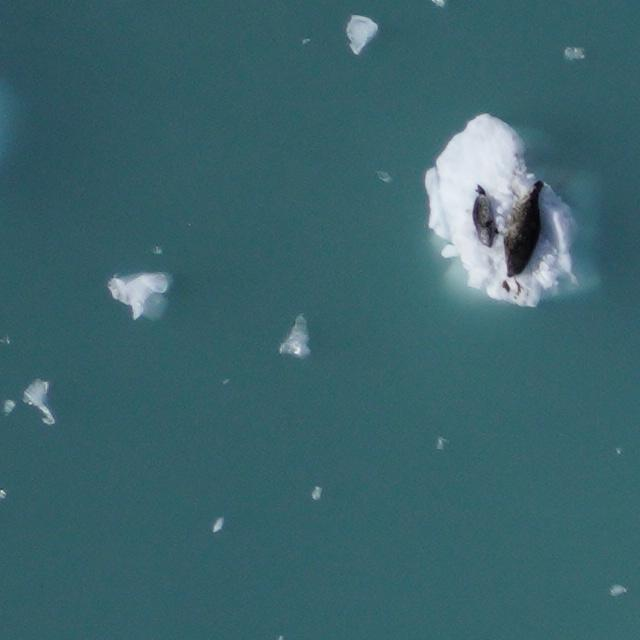seal: (479, 172, 560, 297), (464, 180, 501, 250)
